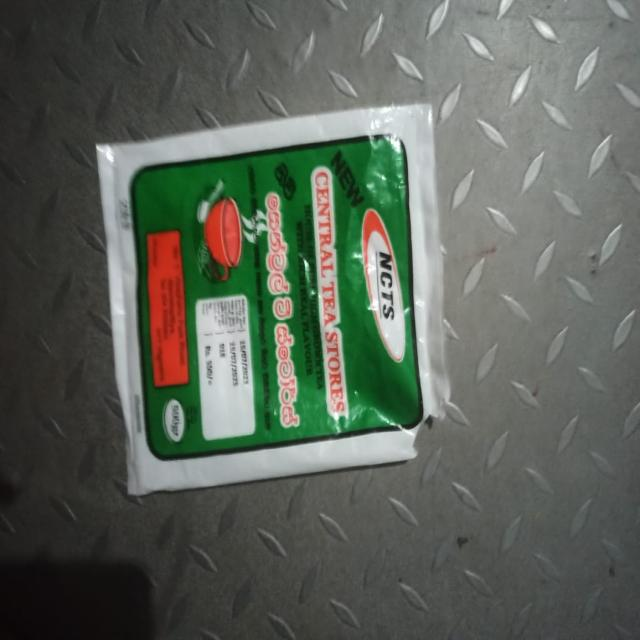Central Tea: (116, 180, 441, 458)
